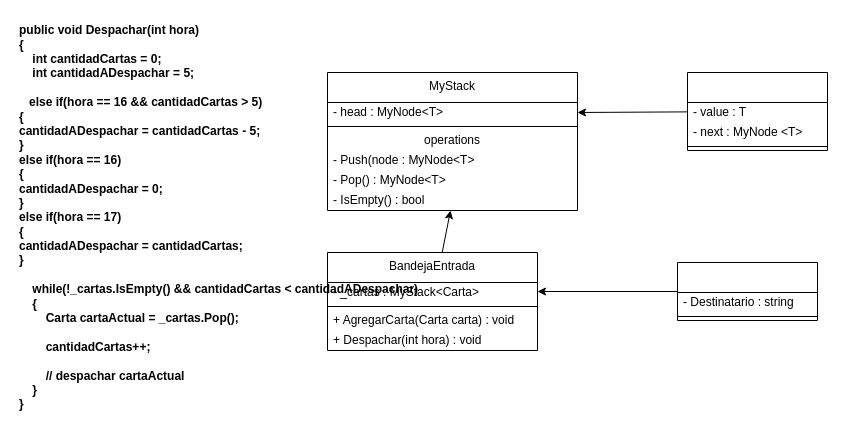
Image size: 845x434. Some labels were removed from this diagram. Each missing label, with the box of its shape:
Carta: (676, 262, 818, 320)
MyNodo: (686, 72, 828, 150)
